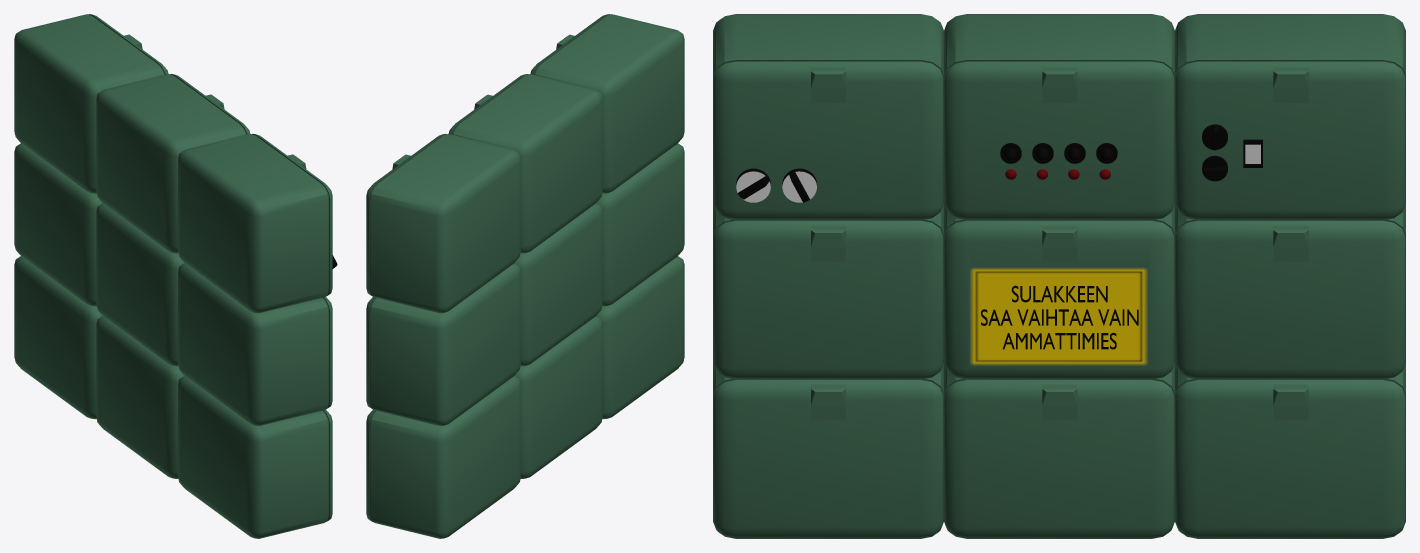
The model's file is Elec_weird green boxes 1.fbx.
3 renders of one model, left to right at view 1: azimuth 30°, elevation 25°; view 2: azimuth 150°, elevation 25°; view 3: azimuth 270°, elevation 25°, orthographic. The views are drawn at different scales.
Parts seen in each view (by area): view 1: Cube; view 2: Cube; view 3: Cube.
Boxes of the visible parts, x1,y1,x2,y2 form: Cube: [14, 14, 337, 538]; Cube: [366, 14, 684, 538]; Cube: [713, 14, 1405, 538].
Bounding box in the file's own units: 174 × 600 × 789.
